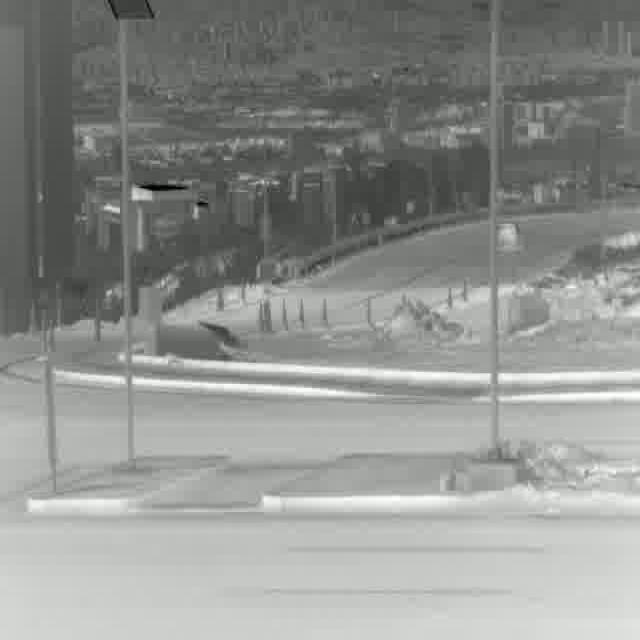Car: (496, 219, 524, 257)
